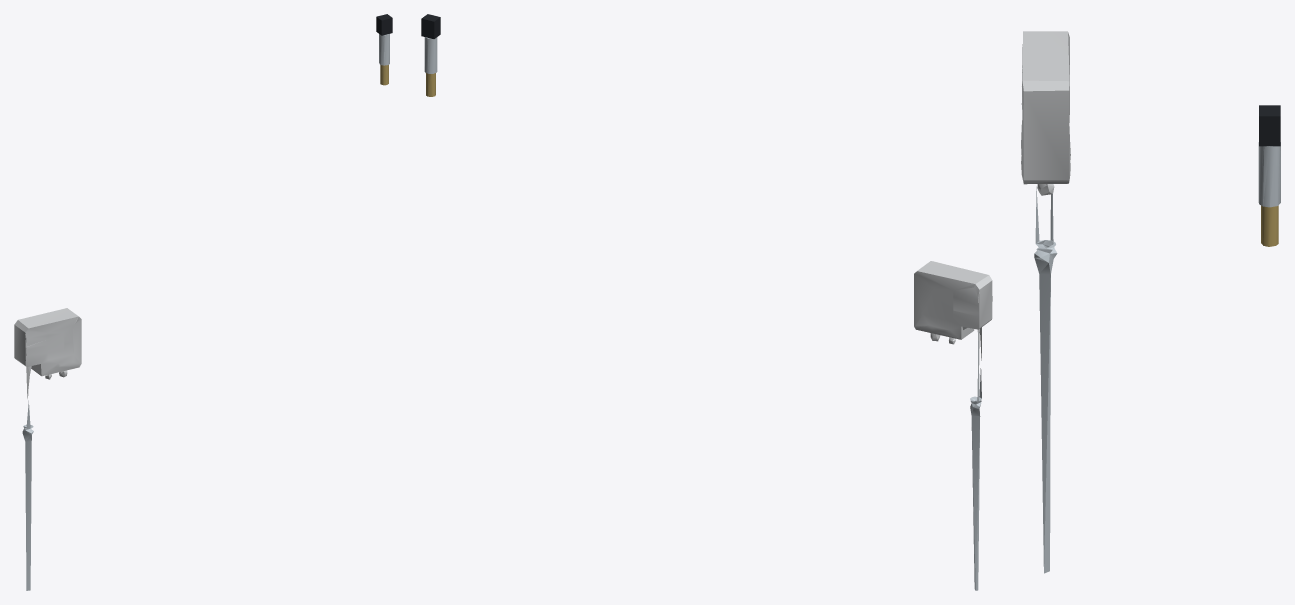
The model's file is trim-comfort.glb.
3 views of the same model, side by side, from view 1: azimuth 30°, elevation 25°; view 2: azimuth 150°, elevation 25°; view 3: azimuth 270°, elevation 25° (orthographic). The views are drawn at different scales.
Parts seen in each view (by area): view 1: lcs600, pressure_transmitter; view 2: lcs600, pressure_transmitter; view 3: lcs600, pressure_transmitter.
Part boxes in pixels (bbox=[...]): lcs600: bbox=[14, 308, 81, 590]; pressure_transmitter: bbox=[376, 14, 392, 85]; lcs600: bbox=[914, 261, 992, 590]; pressure_transmitter: bbox=[421, 14, 440, 96]; lcs600: bbox=[1021, 31, 1070, 573]; pressure_transmitter: bbox=[1258, 105, 1280, 246].
Size of the model in its own units: 1.32 by 1.28 by 0.3497.
